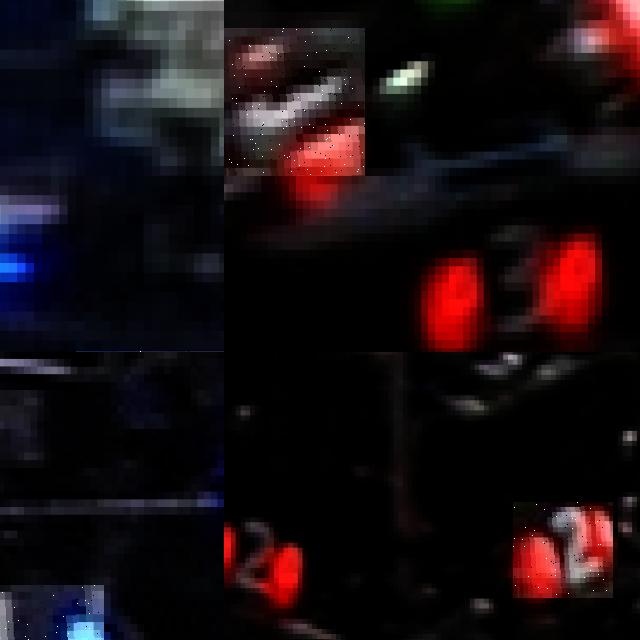B1: (0, 584, 104, 640)
R2: (513, 502, 613, 598), (224, 511, 307, 603)
R3: (421, 217, 602, 352), (224, 28, 365, 175)
